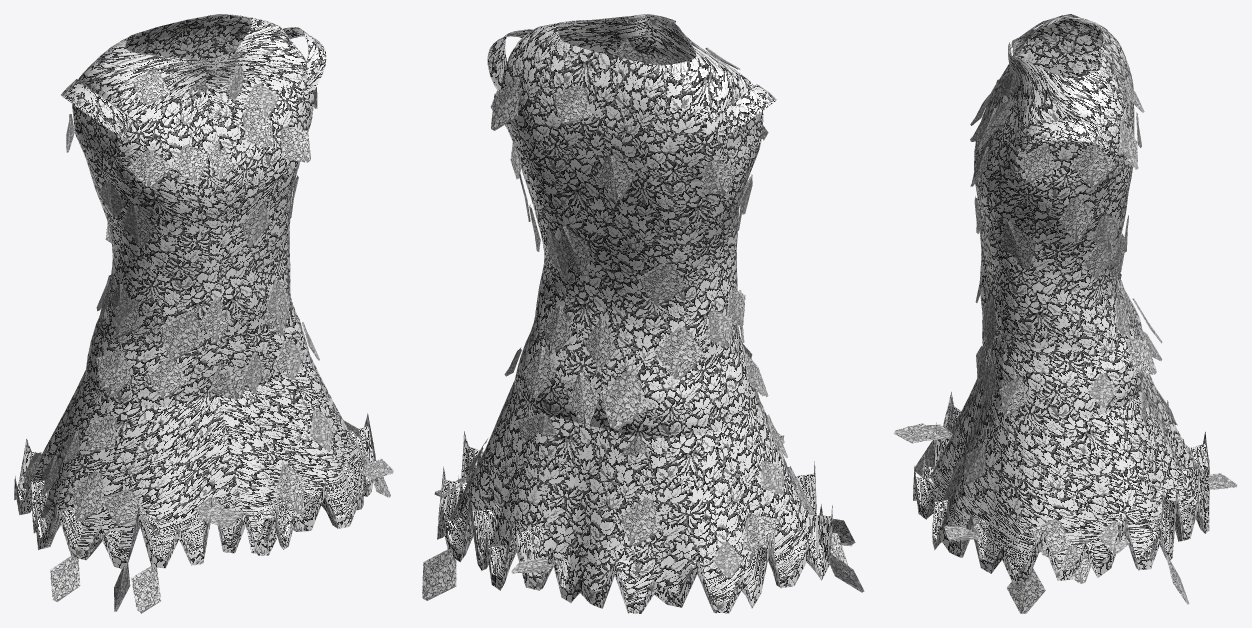
File: ewb_leafdress.glb
3 views of the same model, side by side, from view 1: azimuth 30°, elevation 25°; view 2: azimuth 150°, elevation 25°; view 3: azimuth 270°, elevation 25° (orthographic). The views are drawn at different scales.
Parts seen in each view (by area): view 1: ewb_leafdress; view 2: ewb_leafdress; view 3: ewb_leafdress.
Boxes of the visible parts, x1,y1,x2,y2 form: ewb_leafdress: (14,14,393,613); ewb_leafdress: (422,14,864,613); ewb_leafdress: (894,14,1237,613).
Bounding box in the file's own units: 0.7414 × 0.9997 × 0.6292.
Materials: 1 (1 with a texture image).
